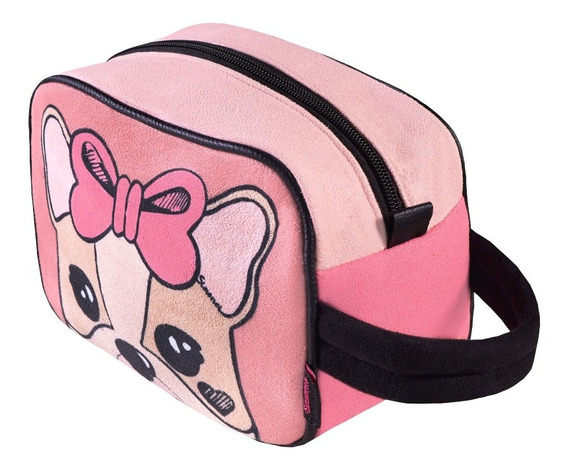cartera: (29, 21, 538, 449)
